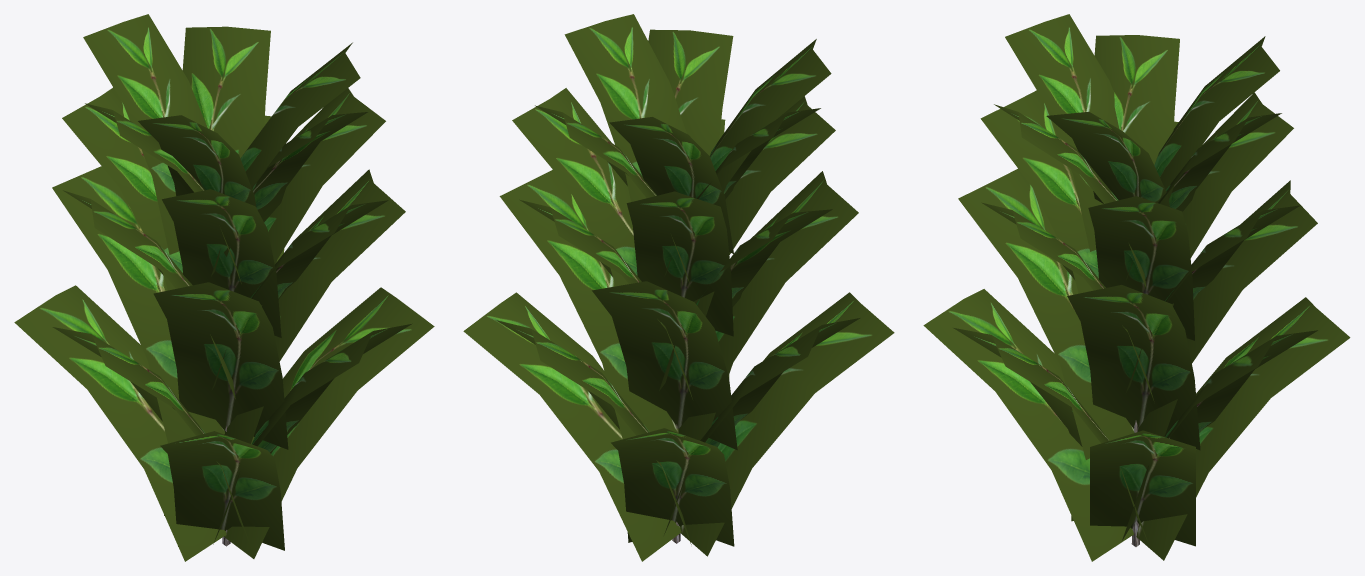
Rendered from plant7.FBX.
3 views of the same model, side by side, from view 1: azimuth 30°, elevation 25°; view 2: azimuth 150°, elevation 25°; view 3: azimuth 270°, elevation 25° (orthographic).
Visible parts, largest first — view 1: Cylinder001; view 2: Cylinder001; view 3: Cylinder001.
Boxes of the visible parts, x1,y1,x2,y2 form: Cylinder001: (14,14,434,561); Cylinder001: (463,14,894,561); Cylinder001: (923,14,1350,561).
Bounding box in the file's own units: 1.19 × 1.62 × 1.31.
